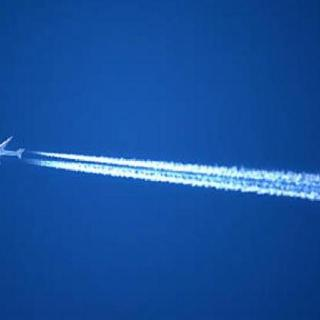Contrails: (25, 133, 320, 228)
